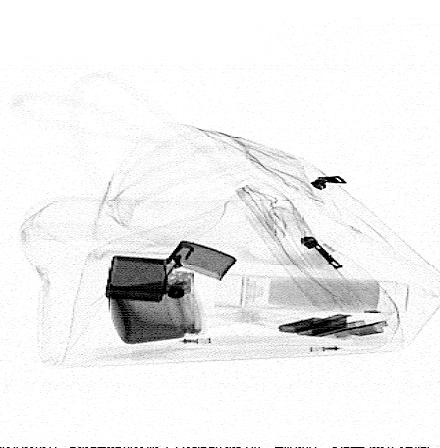Lighter: (105, 239, 237, 303)
